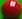red: (0, 0, 22, 19)
